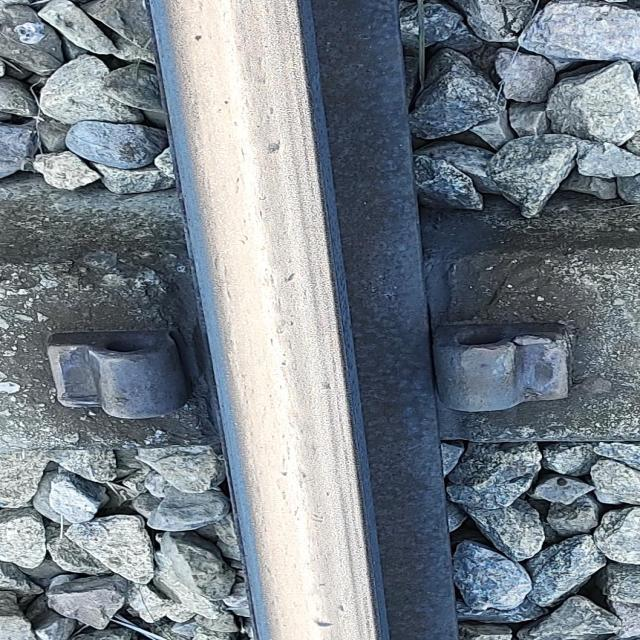Missing Fastener: (28, 283, 212, 473), (416, 302, 594, 442)
